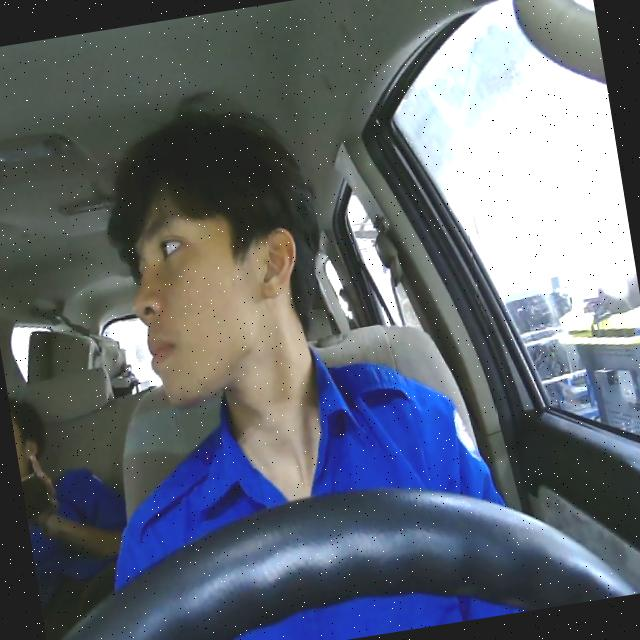seeing_left: (114, 170, 320, 416)
